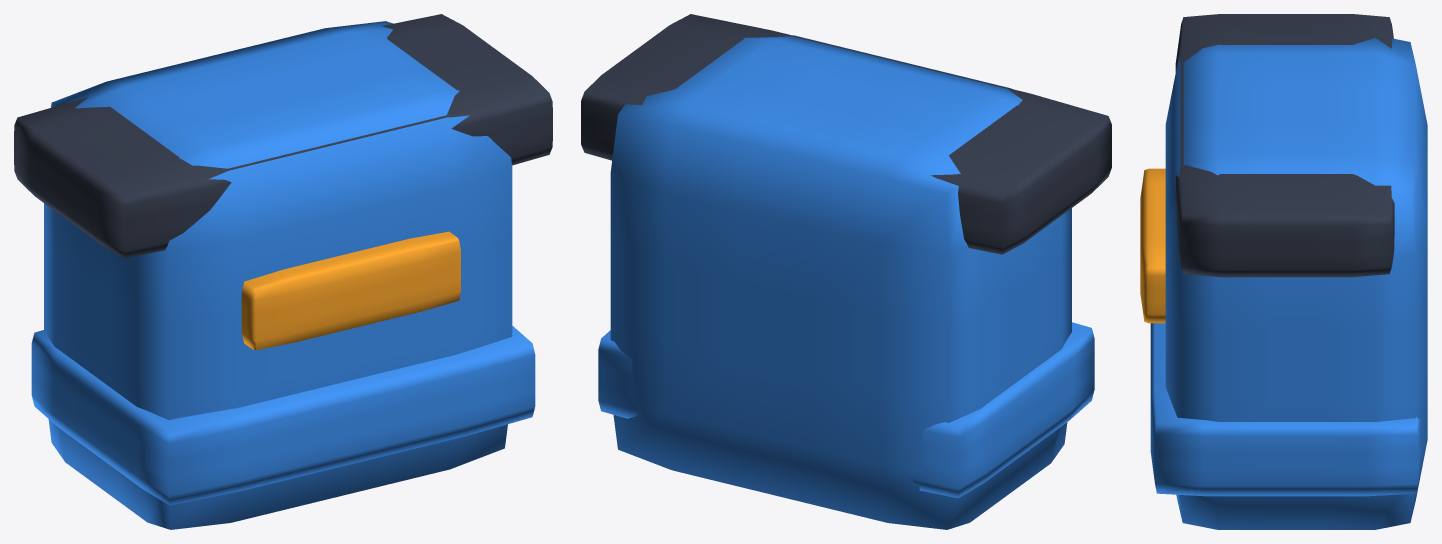
Rendered from torso_shogun.obj.
3 views of the same model, side by side, from view 1: azimuth 30°, elevation 25°; view 2: azimuth 150°, elevation 25°; view 3: azimuth 270°, elevation 25° (orthographic). The views are drawn at different scales.
Size of the model in its own units: 0.96 by 0.78 by 0.57.
